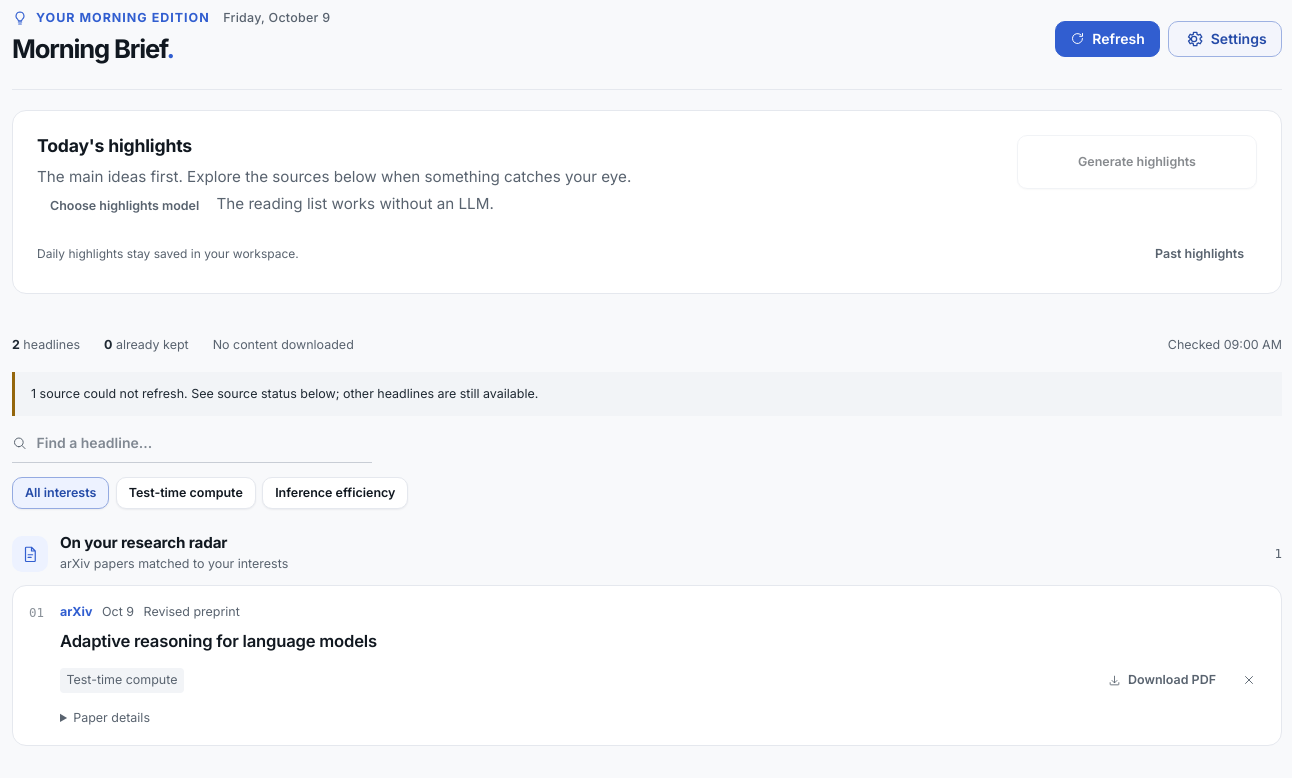
it: retains headlines on download failure and never presents a successful preview
Click the button "Download PDF".
click(1162, 680)  # box [1095,664,1229,696]
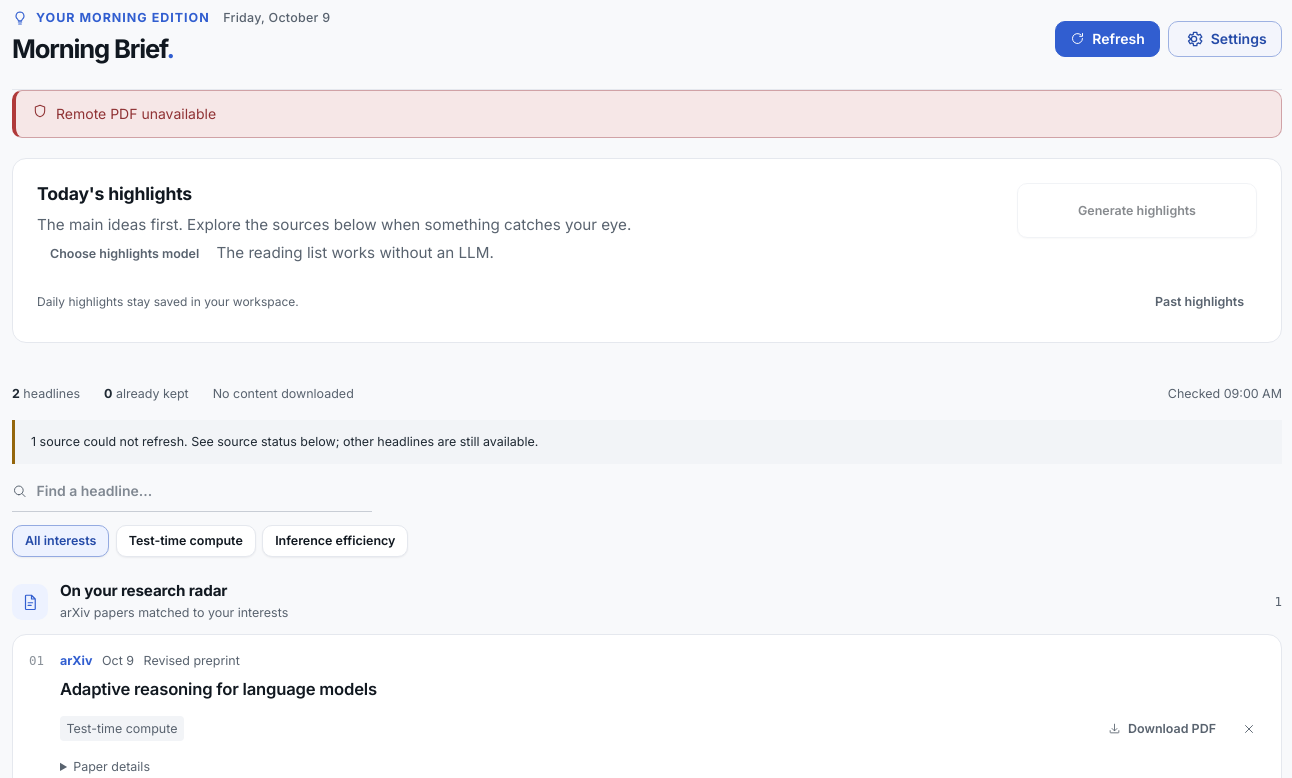
Expected: the text "Adaptive reasoning for language models" is shown, [60,677,377,702]
Now the message "Remote PDF unavailable" is shown, box [12,90,1282,138]
